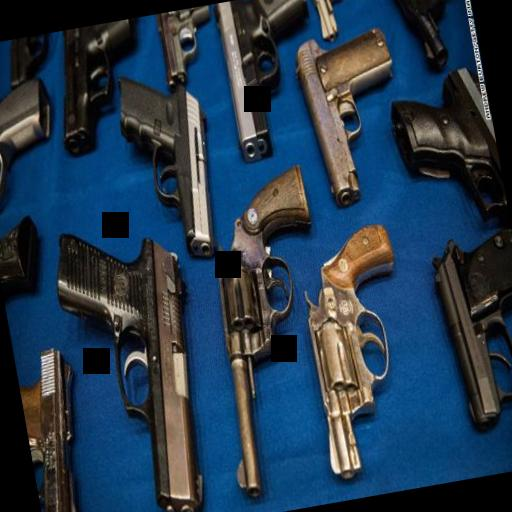Handgun: (182, 158, 356, 499), (48, 210, 221, 512), (286, 219, 428, 480), (107, 54, 229, 269), (290, 24, 416, 212), (208, 0, 334, 164), (420, 221, 512, 438), (41, 17, 157, 156), (12, 341, 104, 512), (152, 4, 222, 94), (385, 0, 468, 72)
